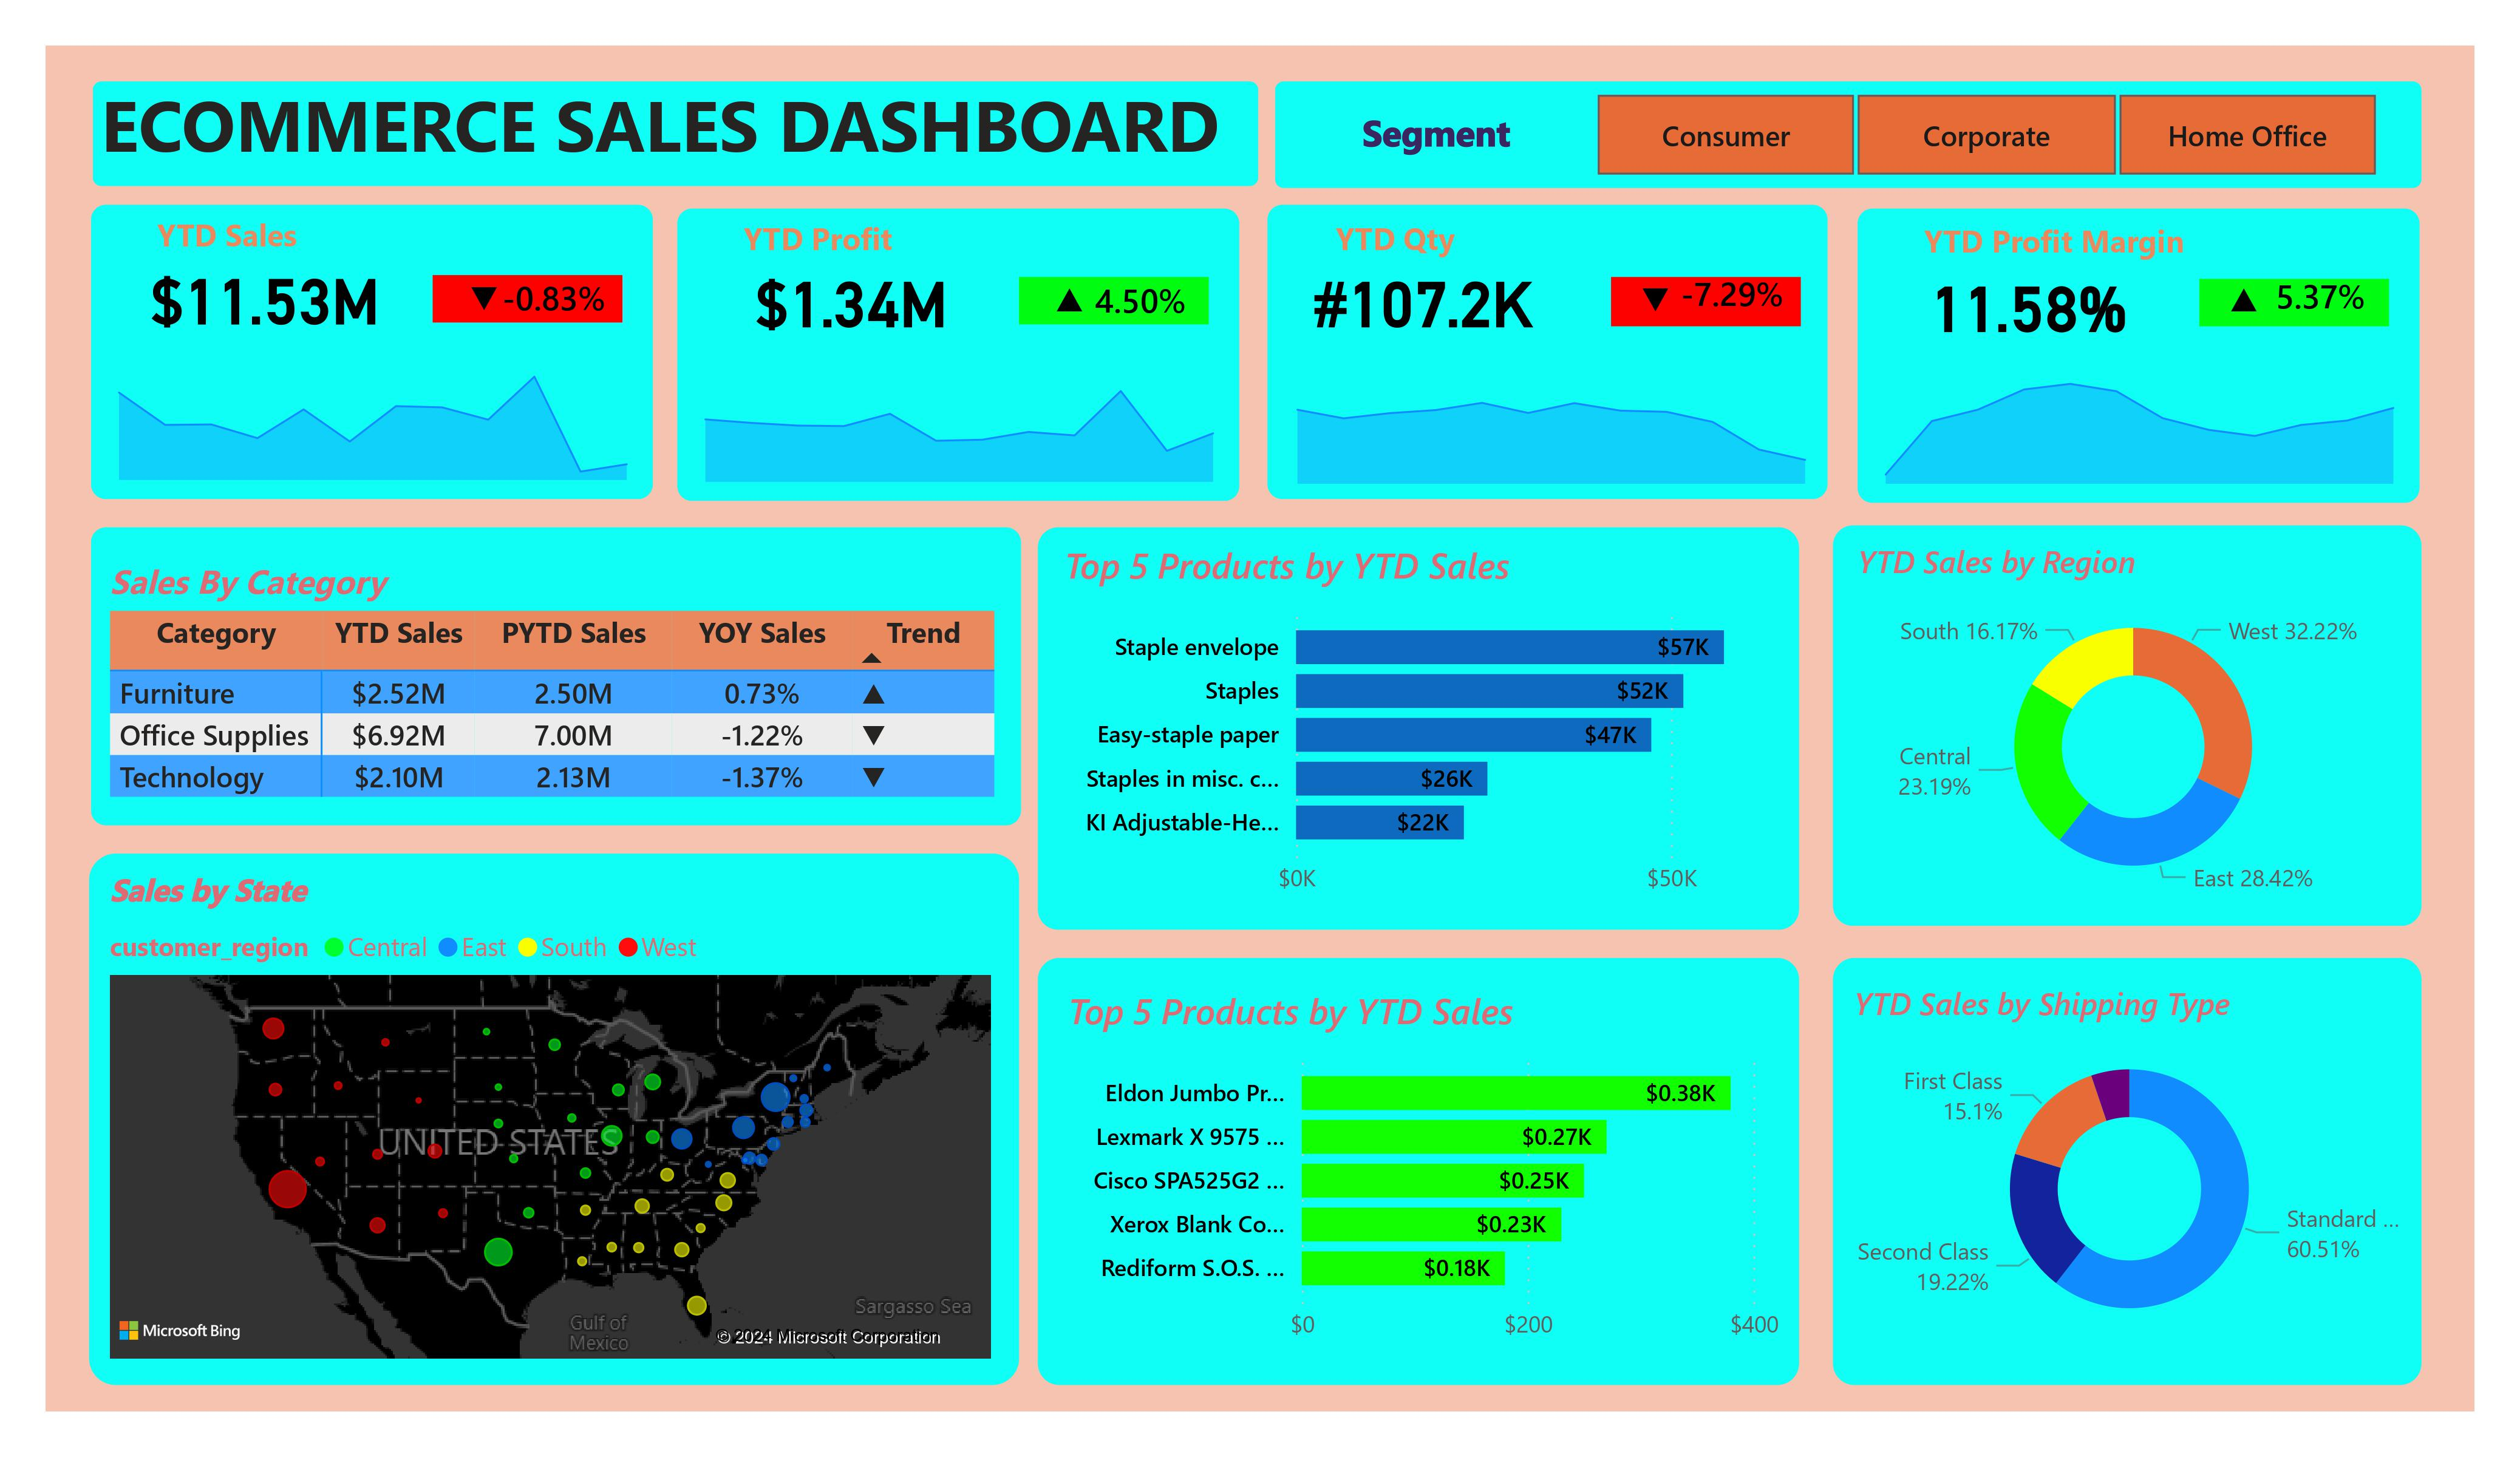

This screenshot's page, from the dashboard's own definition file:
{"tool":"powerbi","page":{"name":"Page 1","canvas":[1280,720],"ordinal":0},"visuals":[{"type":"shape","box":[24.7,19.2,614.8,55],"z":0},{"type":"textbox","box":[24.1,10.9,615.1,63.9],"z":1000},{"type":"shape","box":[24.1,84.4,295.5,154.4],"z":2000},{"type":"card","fields":{"Values":["ecommerce_data.YTD Sales"]},"box":[38.6,104.9,153.2,55.5],"z":3000},{"type":"shape","box":[203.8,120.6,100.1,25.3],"z":4000},{"type":"areaChart","fields":{"Category":["Calendar.Month"],"Y":["Sum(ecommerce_data.sales_per_order)"]},"box":[24.1,160.4,296.7,73.6],"z":5000},{"type":"card","fields":{"Values":["ecommerce_data.YOY Sales"]},"box":[231.6,120.6,72.4,26.5],"z":6000},{"type":"card","fields":{"Values":["ecommerce_data.sales icon"]},"box":[194.2,120.6,73.6,26.5],"z":7000},{"type":"textbox","box":[54.3,84.4,97.7,54.3],"z":8000},{"type":"shape","box":[333.2,85.7,295.5,154.4],"z":9000},{"type":"card","fields":{"Values":["ecommerce_data.YTD Profit"]},"box":[347.7,106.2,153.2,55.5],"z":10000},{"type":"shape","box":[512.9,121.9,100.1,25.3],"z":11000},{"type":"areaChart","fields":{"Category":["Calendar.Month"],"Y":["Sum(ecommerce_data.profit_per_order)"]},"box":[333.2,161.7,296.7,73.6],"z":12000},{"type":"card","fields":{"Values":["ecommerce_data.YOY Profit"]},"box":[540.7,121.9,72.4,26.5],"z":13000},{"type":"card","fields":{"Values":["ecommerce_data.profit icon"]},"box":[502.9,120.6,73.6,25.3],"z":14000},{"type":"textbox","box":[363.4,85.7,97.7,54.3],"z":15000},{"type":"shape","box":[644,84.4,295.5,154.4],"z":16000},{"type":"card","fields":{"Values":["ecommerce_data.YTD Concatenated Qty"]},"box":[659.7,106.1,132.7,55.5],"z":17000},{"type":"shape","box":[824.9,122.3,100.1,25.3],"z":18000},{"type":"areaChart","fields":{"Category":["Calendar.Month"],"Y":["Sum(ecommerce_data.order_quantity)"]},"box":[645.2,162.1,296.7,73.6],"z":19000},{"type":"card","fields":{"Values":["ecommerce_data.YOY Qty"]},"box":[852.7,119.4,72.4,26.5],"z":20000},{"type":"card","fields":{"Values":["ecommerce_data.Qty icon"]},"box":[811.7,120.6,73.6,25.3],"z":21000},{"type":"textbox","box":[675.4,86.1,97.7,54.3],"z":22000},{"type":"shape","box":[955.3,86.4,295.5,154.4],"z":23000},{"type":"shape","box":[1135,122.6,100.1,25.3],"z":24000},{"type":"areaChart","fields":{"Category":["Calendar.Month"],"Y":["ecommerce_data.YTD Profit Margin"]},"box":[955.3,162.4,296.7,73.6],"z":25000},{"type":"card","fields":{"Values":["ecommerce_data.YOY Profit Margin"]},"box":[1162.7,119.7,72.4,26.5],"z":26000},{"type":"card","fields":{"Values":["ecommerce_data.Profit Margin icon"]},"box":[1121.7,121,73.6,25.3],"z":27000},{"type":"textbox","box":[985.3,86.8,149.5,54.3],"z":28000},{"type":"card","fields":{"Values":["ecommerce_data.YTD Profit Margin"]},"box":[968.4,108.5,153.2,55.5],"z":29000},{"type":"shape","box":[24.1,254.5,489.6,156.8],"z":30000},{"type":"pivotTable","title":"Sales By Category","fields":{"Rows":["ecommerce_data.category_name"],"Values":["ecommerce_data.YTD Sales","ecommerce_data.PYTD Sales","ecommerce_data.YOY Sales","ecommerce_data.sales icon"]},"box":[28.9,270.2,484.8,131.5],"z":31000},{"type":"shape","box":[22.9,425.7,489.6,279.8],"z":32000},{"type":"map","title":"Sales by State","fields":{"Y":["us_state_long_lat_codes.latitude"],"X":["us_state_long_lat_codes.longitude"],"Size":["ecommerce_data.YTD Sales"],"Series":["ecommerce_data.customer_region"]},"box":[28.9,434.2,474,262.9],"z":33000},{"type":"shape","box":[523.4,254.5,400.4,211.1],"z":34000},{"type":"shape","box":[523.4,481.2,400.4,224.3],"z":35000},{"type":"barChart","title":"Top 5 Products by YTD Sales ","fields":{"Category":["ecommerce_data.product_name"],"Y":["ecommerce_data.YTD Sales"]},"box":[531.9,260.5,383.5,196.6],"z":36000},{"type":"barChart","title":"Top 5 Products by YTD Sales ","fields":{"Category":["ecommerce_data.product_name"],"Y":["ecommerce_data.YTD Sales"]},"box":[534.3,495.7,383.5,196.6],"z":37000},{"type":"shape","box":[941.9,253.3,309.9,211.1],"z":38000},{"type":"shape","box":[941.9,481.2,309.9,224.3],"z":39000},{"type":"donutChart","title":"YTD Sales by Region","fields":{"Category":["ecommerce_data.customer_region"],"Y":["ecommerce_data.YTD Sales"]},"box":[950.4,260.5,300.3,196.6],"z":40000},{"type":"donutChart","title":"YTD Sales by Shipping Type","fields":{"Y":["ecommerce_data.YTD Sales"],"Category":["ecommerce_data.shipping_type"]},"box":[947.9,494.5,300.3,196.6],"z":41000},{"type":"shape","box":[647.6,19.3,604.2,55.5],"z":42000},{"type":"slicer","fields":{"Values":["ecommerce_data.customer_segment"]},"box":[792.4,19.3,459.5,55.5],"z":43000},{"type":"textbox","box":[688.6,27.7,104.9,38.6],"z":44000}]}

Visuals, with their boxes on the page's 1280x720 design canvas (x1, y1, x2, y2). These are canvas units, not pixel positions in the 2520x1457 screenshot, which may show the page scaled, cropped or inside an application window:
shape: Rect(25, 19, 640, 74)
textbox: Rect(24, 11, 639, 75)
shape: Rect(24, 84, 320, 239)
card - ecommerce_data.YTD Sales: Rect(39, 105, 192, 160)
shape: Rect(204, 121, 304, 146)
areaChart - Calendar.Month x Sum(ecommerce_data.sales_per_order): Rect(24, 160, 321, 234)
card - ecommerce_data.YOY Sales: Rect(232, 121, 304, 147)
card - ecommerce_data.sales icon: Rect(194, 121, 268, 147)
textbox: Rect(54, 84, 152, 139)
shape: Rect(333, 86, 629, 240)
card - ecommerce_data.YTD Profit: Rect(348, 106, 501, 162)
shape: Rect(513, 122, 613, 147)
areaChart - Calendar.Month x Sum(ecommerce_data.profit_per_order): Rect(333, 162, 630, 235)
card - ecommerce_data.YOY Profit: Rect(541, 122, 613, 148)
card - ecommerce_data.profit icon: Rect(503, 121, 576, 146)
textbox: Rect(363, 86, 461, 140)
shape: Rect(644, 84, 940, 239)
card - ecommerce_data.YTD Concatenated Qty: Rect(660, 106, 792, 162)
shape: Rect(825, 122, 925, 148)
areaChart - Calendar.Month x Sum(ecommerce_data.order_quantity): Rect(645, 162, 942, 236)
card - ecommerce_data.YOY Qty: Rect(853, 119, 925, 146)
card - ecommerce_data.Qty icon: Rect(812, 121, 885, 146)
textbox: Rect(675, 86, 773, 140)
shape: Rect(955, 86, 1251, 241)
shape: Rect(1135, 123, 1235, 148)
areaChart - Calendar.Month x ecommerce_data.YTD Profit Margin: Rect(955, 162, 1252, 236)
card - ecommerce_data.YOY Profit Margin: Rect(1163, 120, 1235, 146)
card - ecommerce_data.Profit Margin icon: Rect(1122, 121, 1195, 146)
textbox: Rect(985, 87, 1135, 141)
card - ecommerce_data.YTD Profit Margin: Rect(968, 108, 1122, 164)
shape: Rect(24, 254, 514, 411)
"Sales By Category" pivotTable: Rect(29, 270, 514, 402)
shape: Rect(23, 426, 512, 706)
"Sales by State" map: Rect(29, 434, 503, 697)
shape: Rect(523, 254, 924, 466)
shape: Rect(523, 481, 924, 706)
"Top 5 Products by YTD Sales " barChart: Rect(532, 260, 915, 457)
"Top 5 Products by YTD Sales " barChart: Rect(534, 496, 918, 692)
shape: Rect(942, 253, 1252, 464)
shape: Rect(942, 481, 1252, 706)
"YTD Sales by Region" donutChart: Rect(950, 260, 1251, 457)
"YTD Sales by Shipping Type" donutChart: Rect(948, 494, 1248, 691)
shape: Rect(648, 19, 1252, 75)
slicer - ecommerce_data.customer_segment: Rect(792, 19, 1252, 75)
textbox: Rect(689, 28, 794, 66)
